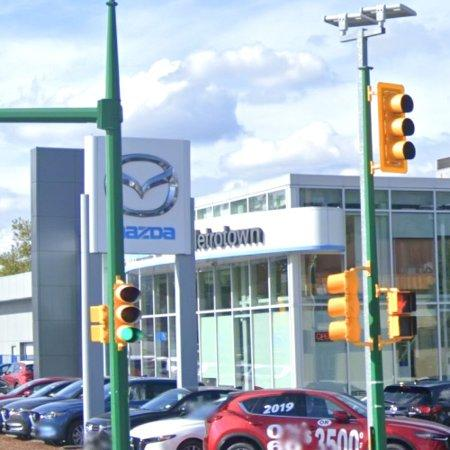traffic lights: (378, 83, 417, 172), (324, 268, 361, 344), (385, 284, 419, 343), (386, 285, 418, 344), (112, 280, 140, 345), (87, 302, 111, 346)
